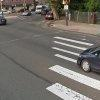Crosswalk: (52, 28, 80, 100)
